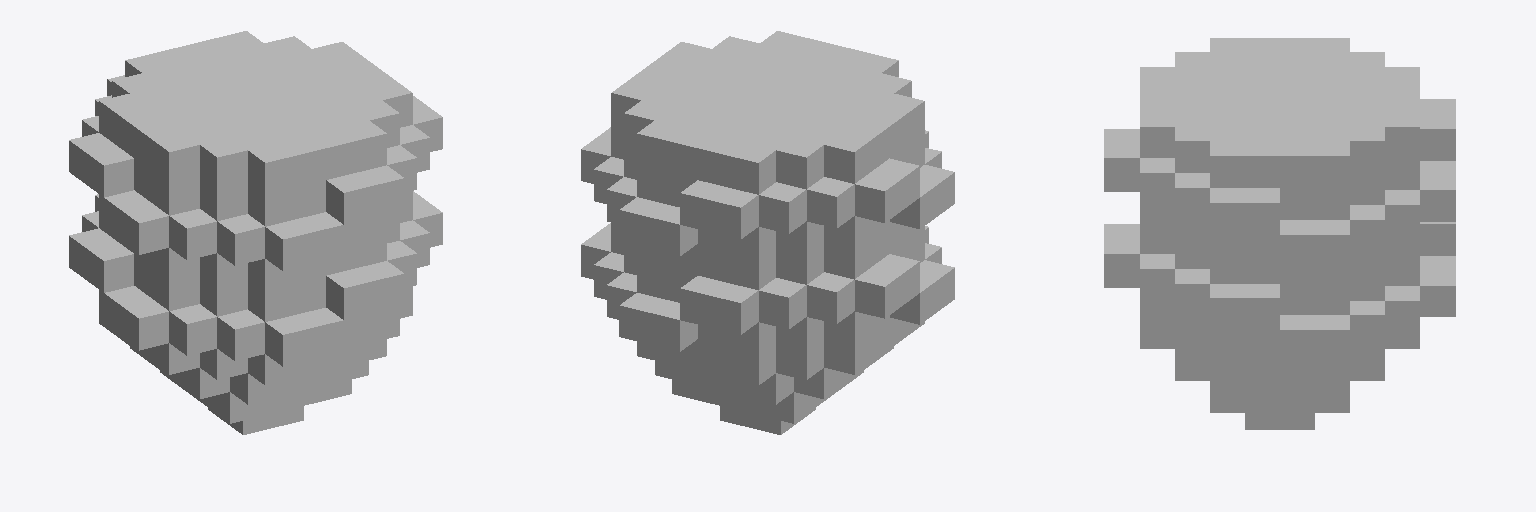
File: Body.obj
3 views of the same model, side by side, from view 1: azimuth 30°, elevation 25°; view 2: azimuth 150°, elevation 25°; view 3: azimuth 270°, elevation 25° (orthographic).
Visible parts, largest first — view 1: object 1; view 2: object 1; view 3: object 1.
Boxes of the visible parts, <box> form: object 1: <box>69,31,442,434</box>; object 1: <box>581,31,954,434</box>; object 1: <box>1104,38,1455,429</box>.
Size of the model in its own units: 2 by 2 by 2.